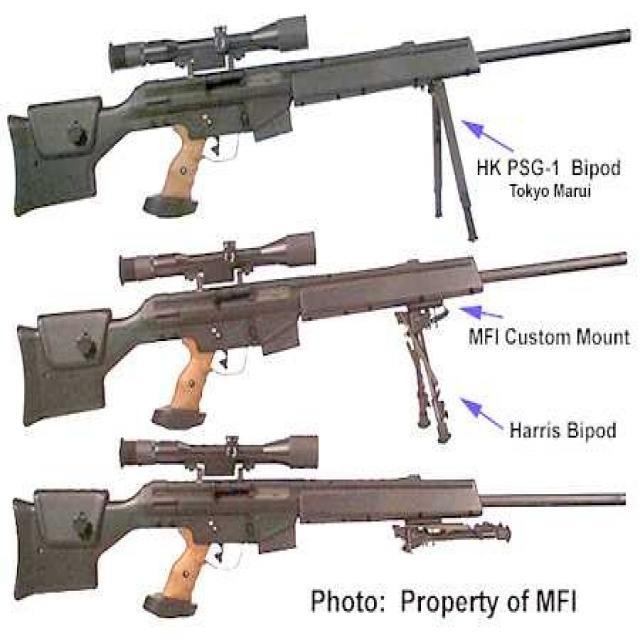weapon: (0, 3, 634, 235), (14, 408, 636, 634), (12, 208, 628, 436)
